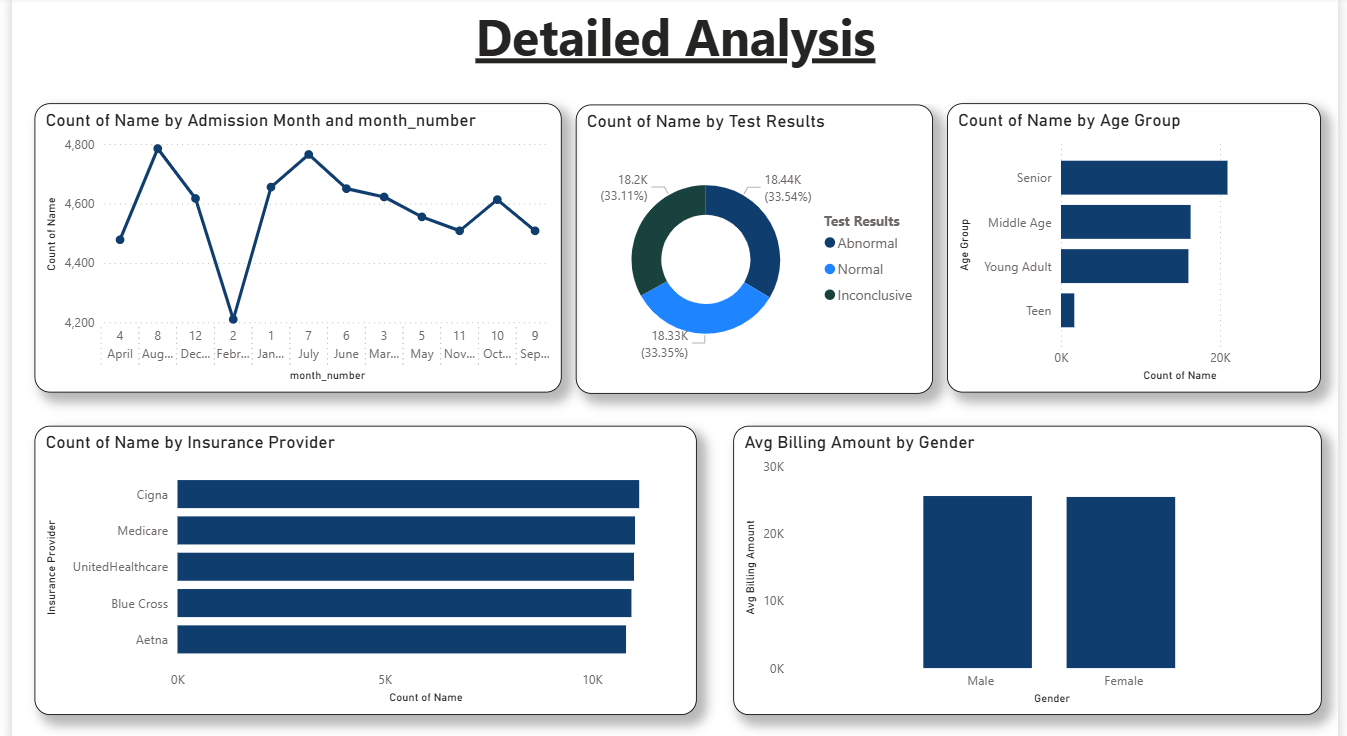

What the dashboard file says about the page in this screenshot:
{"tool":"powerbi","page":{"name":"Page 2","canvas":[1280,720],"ordinal":1},"visuals":[{"type":"clusteredColumnChart","fields":{"Y":["healthcare_dataset python.Avg Billing Amount"],"Category":["healthcare_dataset python.Gender"]},"box":[695.7,413.7,567.6,279.5],"z":0},{"type":"donutChart","fields":{"Category":["healthcare_dataset python.Test Results"],"Y":["CountNonNull(healthcare_dataset python.Name)"]},"box":[544.2,103.4,344.8,279.5],"z":1000},{"type":"textbox","box":[0,0,1280.6,103.1],"z":2000},{"type":"barChart","fields":{"Category":["healthcare_dataset python.Age Group"],"Y":["CountNonNull(healthcare_dataset python.Name)"]},"box":[902.4,103.1,361,279.3],"z":3000},{"type":"clusteredBarChart","fields":{"Category":["healthcare_dataset python.Insurance Provider"],"Y":["CountNonNull(healthcare_dataset python.Name)"]},"box":[21.5,414,638.9,279.3],"z":4000},{"type":"lineChart","fields":{"Y":["CountNonNull(healthcare_dataset python.Name)"],"Category":["healthcare_dataset python.Admission Month","healthcare_dataset python.month_number"]},"box":[21.5,103.1,508.5,279.3],"z":5000}]}

Visuals, with their boxes in screenshot pixels (x1, y1, x2, y2), scaled from the page's 1280x720 canvas onto the 1347x736 screenshot:
clusteredColumnChart - healthcare_dataset python.Avg Billing Amount x healthcare_dataset python.Gender: [732, 423, 1329, 709]
donutChart - healthcare_dataset python.Test Results x CountNonNull(healthcare_dataset python.Name): [573, 106, 936, 391]
textbox: [0, 0, 1346, 105]
barChart - healthcare_dataset python.Age Group x CountNonNull(healthcare_dataset python.Name): [950, 105, 1330, 391]
clusteredBarChart - healthcare_dataset python.Insurance Provider x CountNonNull(healthcare_dataset python.Name): [23, 423, 695, 709]
lineChart - CountNonNull(healthcare_dataset python.Name) x healthcare_dataset python.Admission Month: [23, 105, 558, 391]
